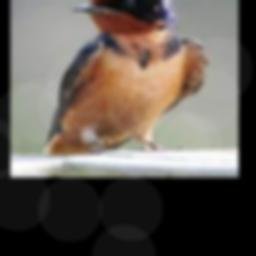Swallow: (43, 0, 209, 154)
